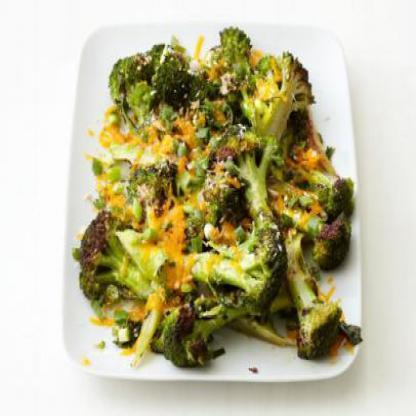broccoli: (69, 23, 366, 370)
